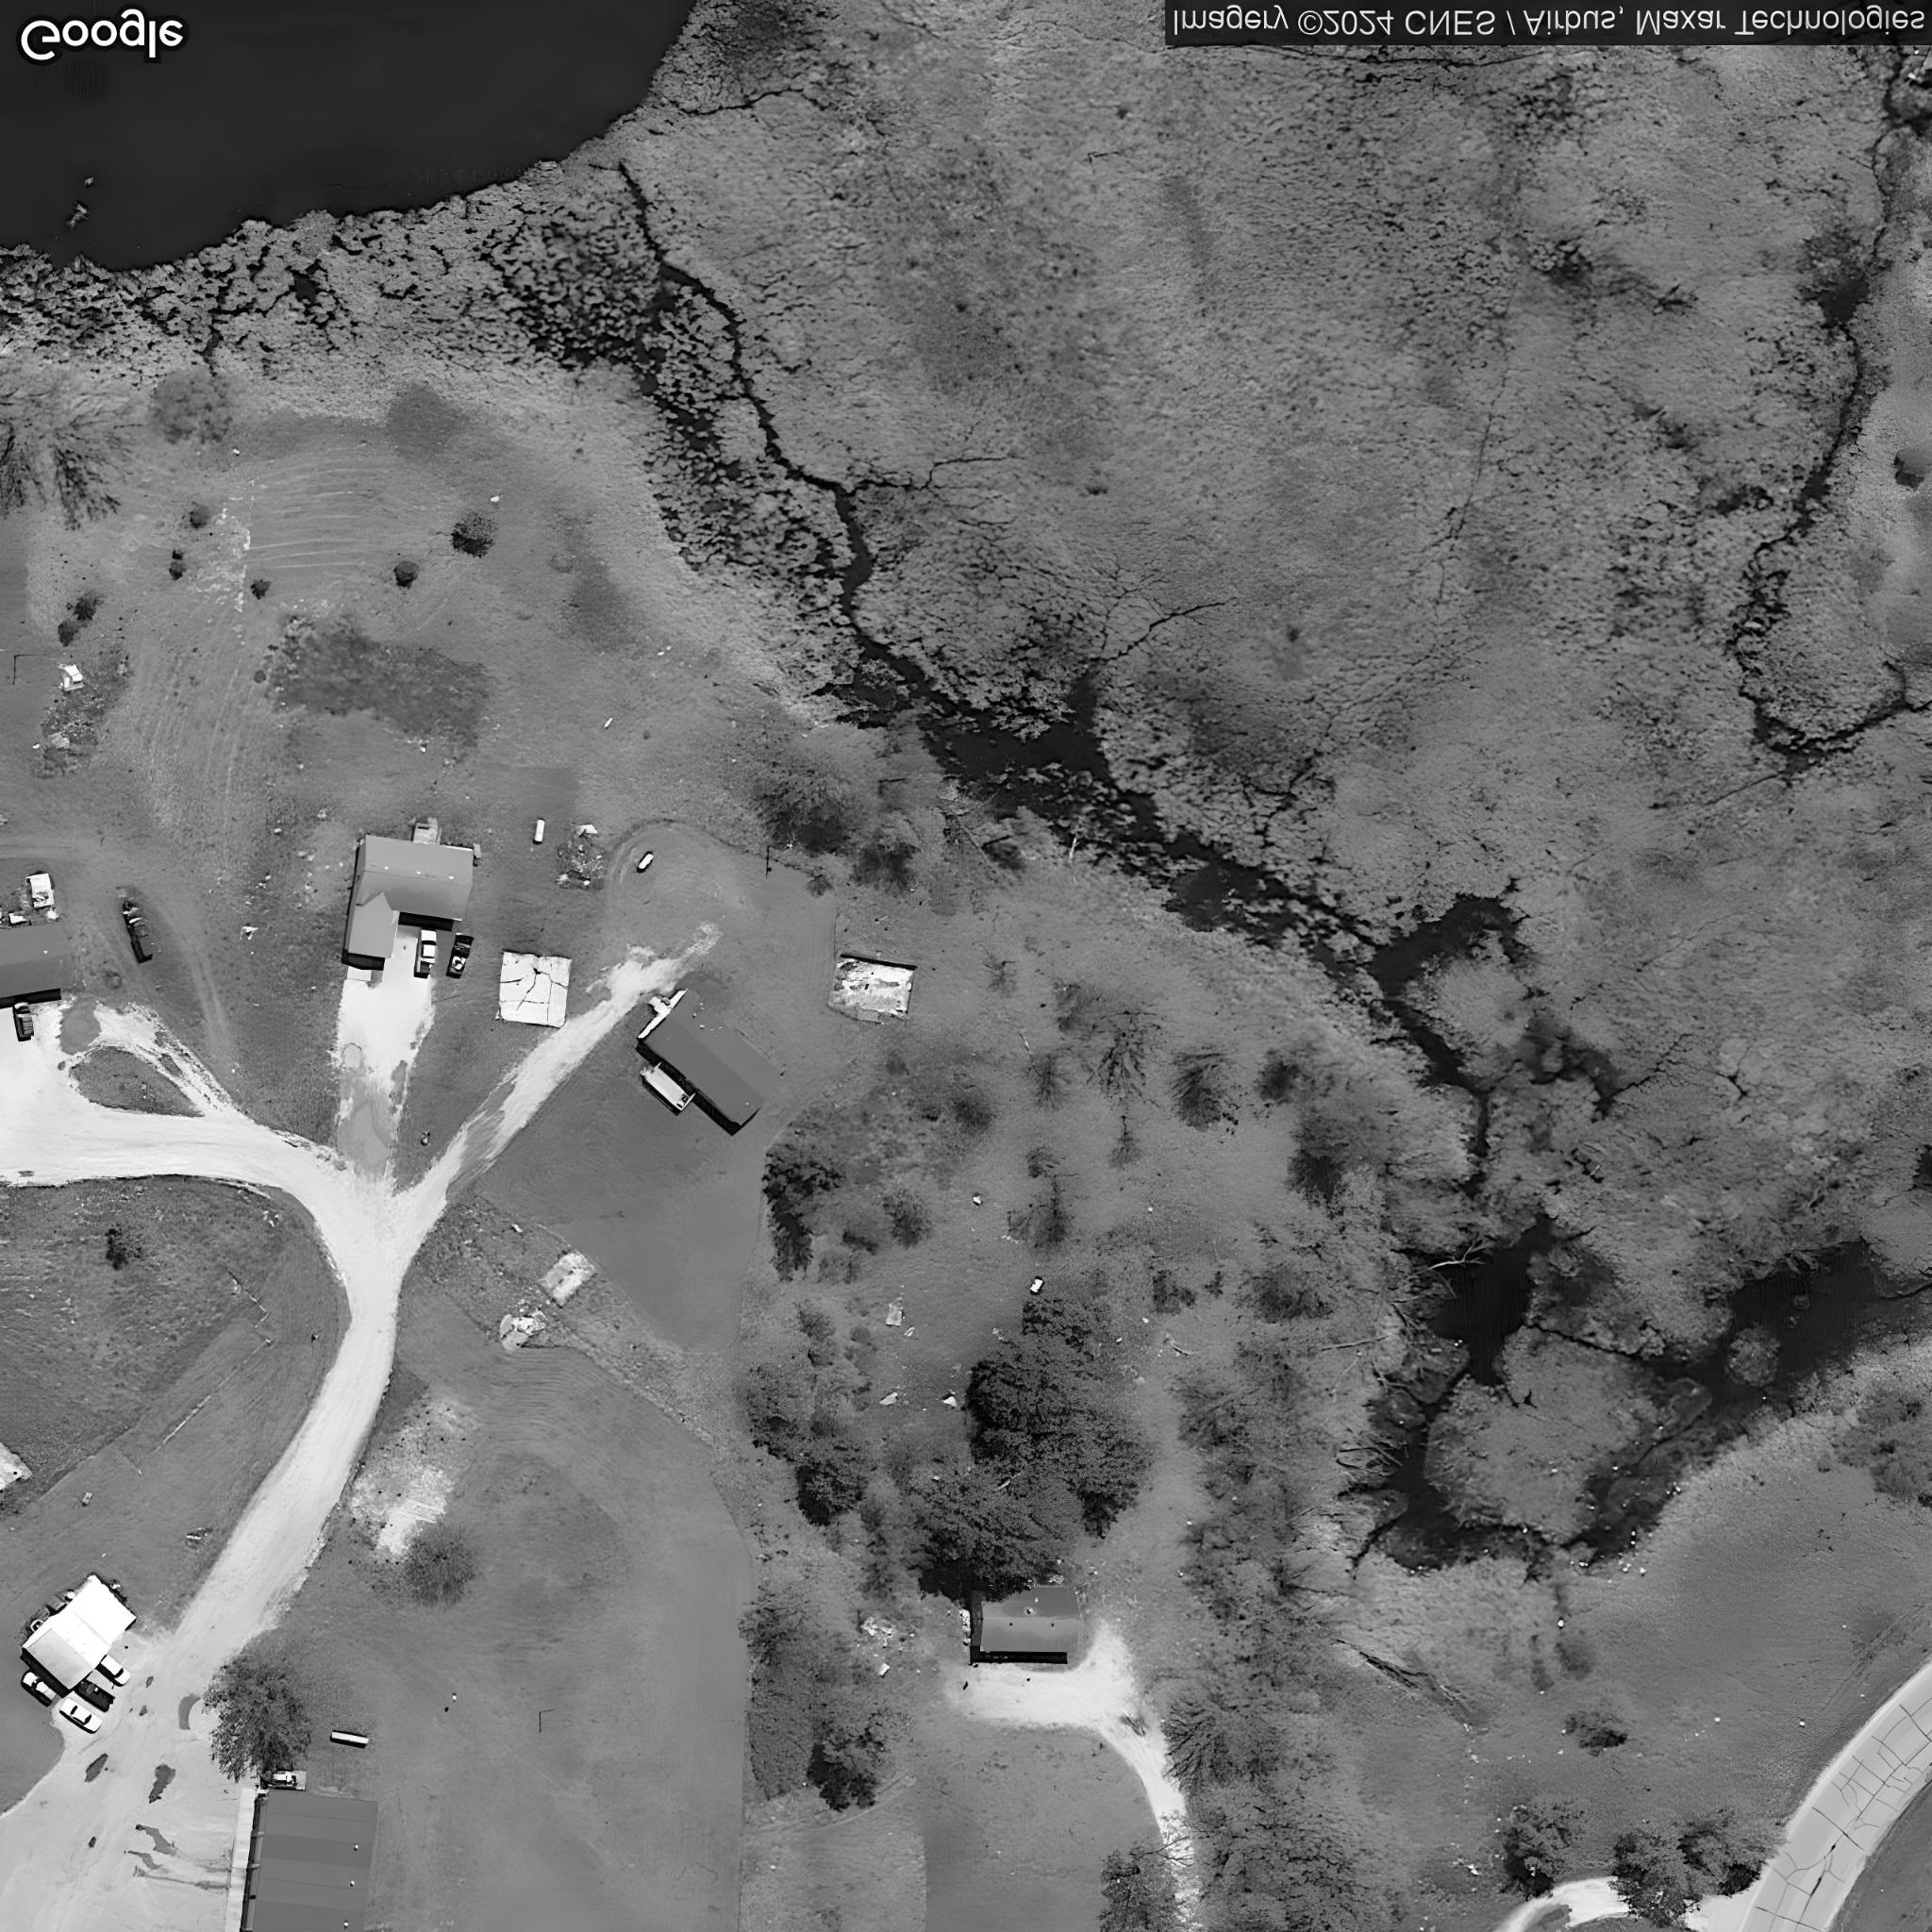Garage: (16, 1569, 138, 1691), (966, 1583, 1085, 1656)
House: (635, 984, 786, 1127), (237, 1787, 382, 1932), (343, 832, 476, 961), (2, 916, 71, 1001)
Propane: (327, 1730, 372, 1750), (633, 847, 660, 876), (531, 816, 548, 846)
